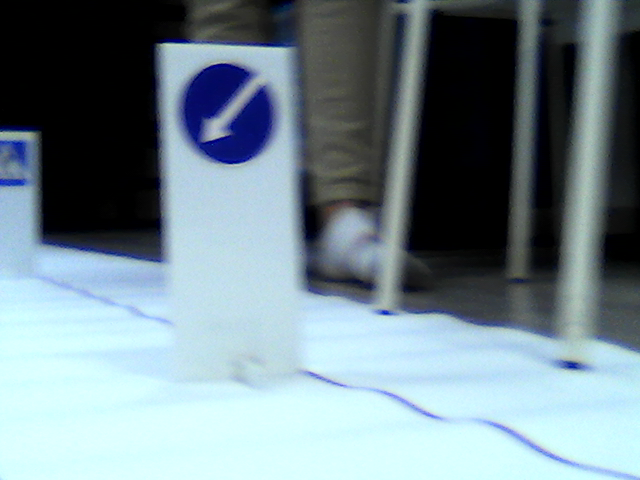prep: (181, 60, 276, 164)
